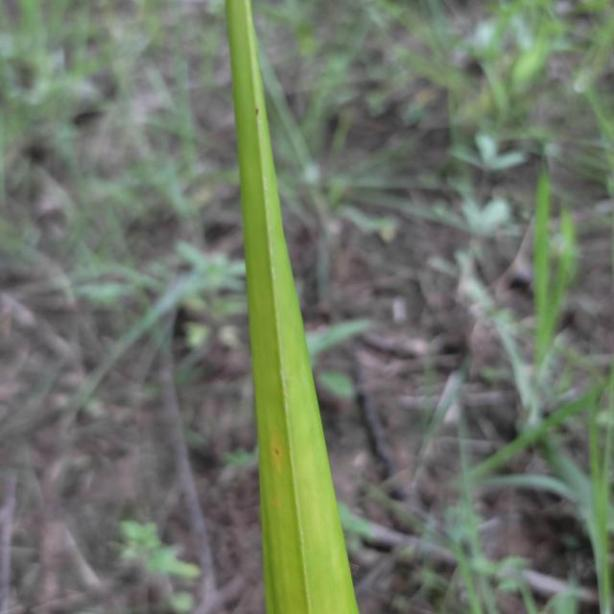nitrogen: (230, 0, 360, 614)
